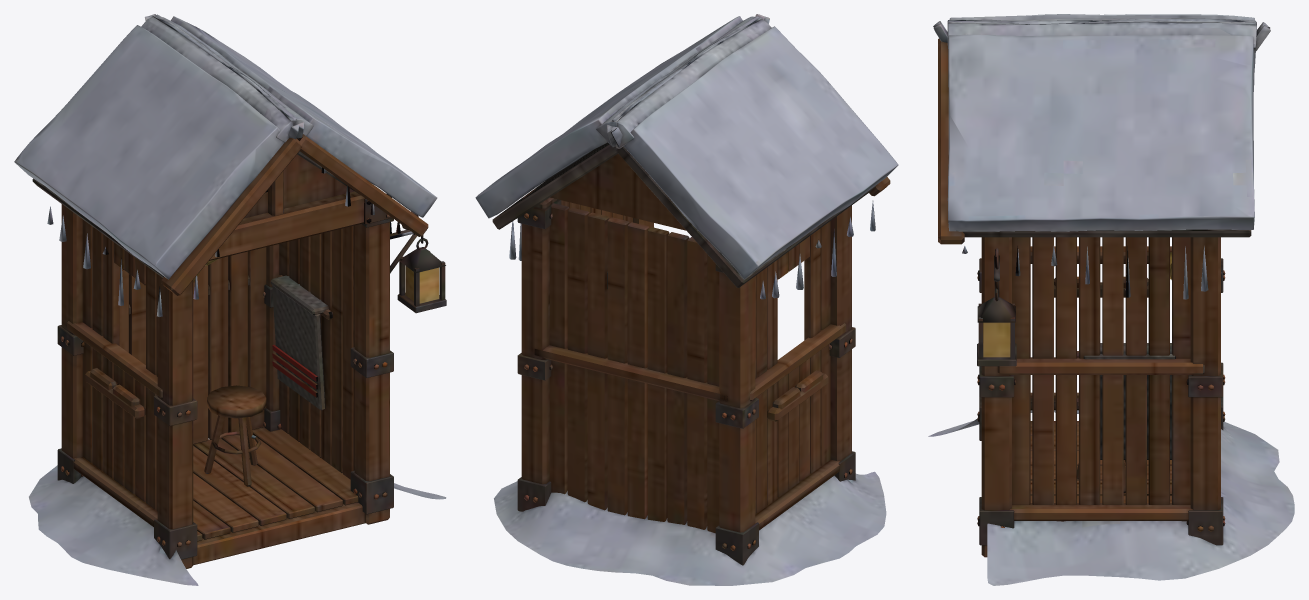
The model's file is sentry.glb.
3 views of the same model, side by side, from view 1: azimuth 30°, elevation 25°; view 2: azimuth 150°, elevation 25°; view 3: azimuth 270°, elevation 25° (orthographic). The views are drawn at different scales.
Visible parts, largest first — view 1: model; view 2: model; view 3: model.
Boxes of the visible parts, x1,y1,x2,y2 form: model: (14,14,446,585); model: (475,14,898,585); model: (928,14,1294,585).
Size of the model in its own units: 2.27 by 2.79 by 1.93.
2 materials, 2 textured.
